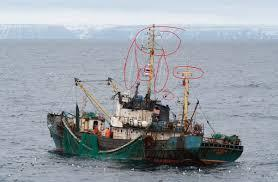Ship: (42, 72, 255, 171)
